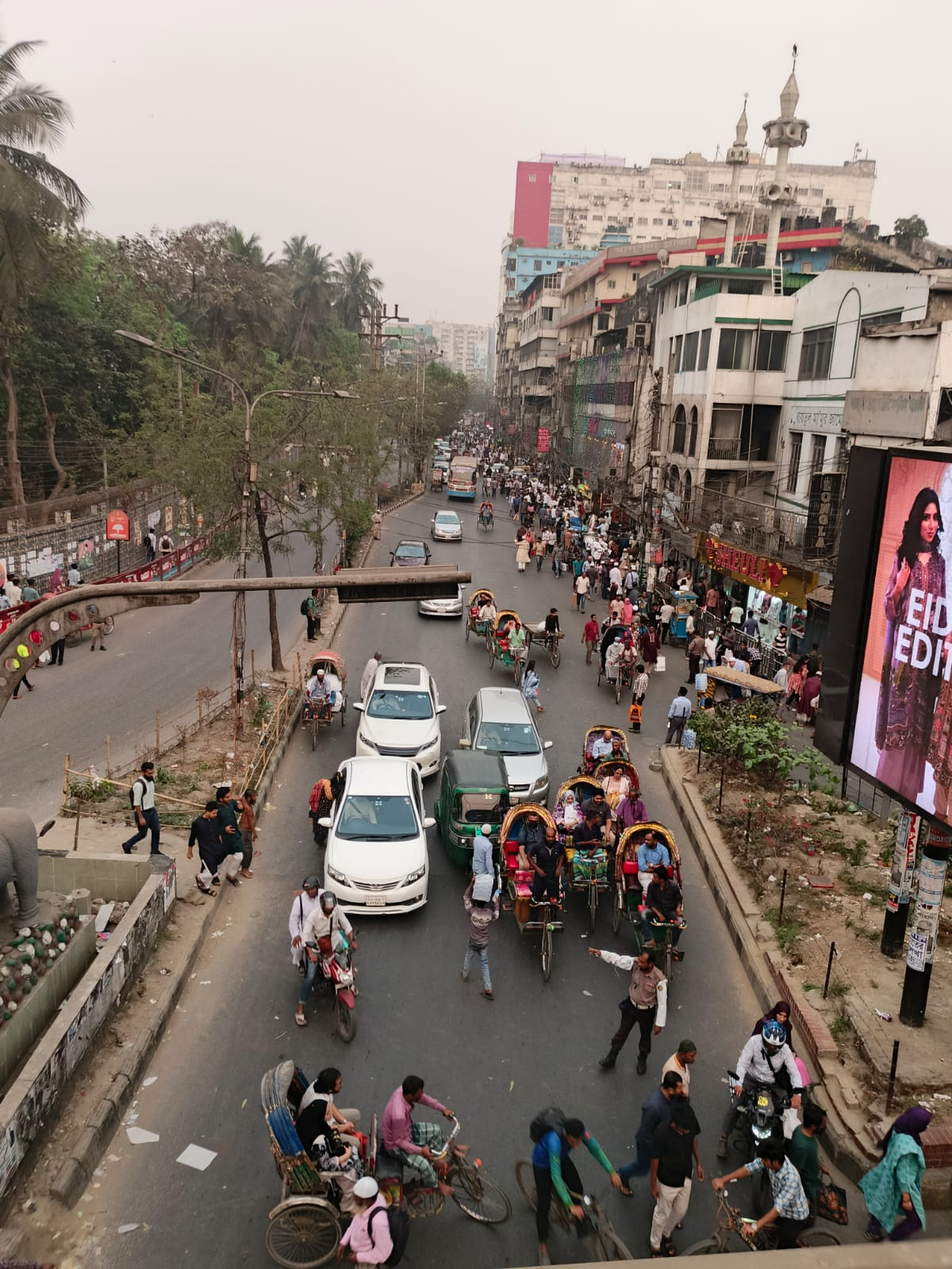Bikes: (284, 875, 365, 1046)
auto-ricksaw: (496, 795, 568, 985), (613, 817, 691, 977)
cng: (438, 744, 513, 858)
private car: (324, 751, 430, 918), (457, 680, 554, 804), (352, 660, 445, 780)
